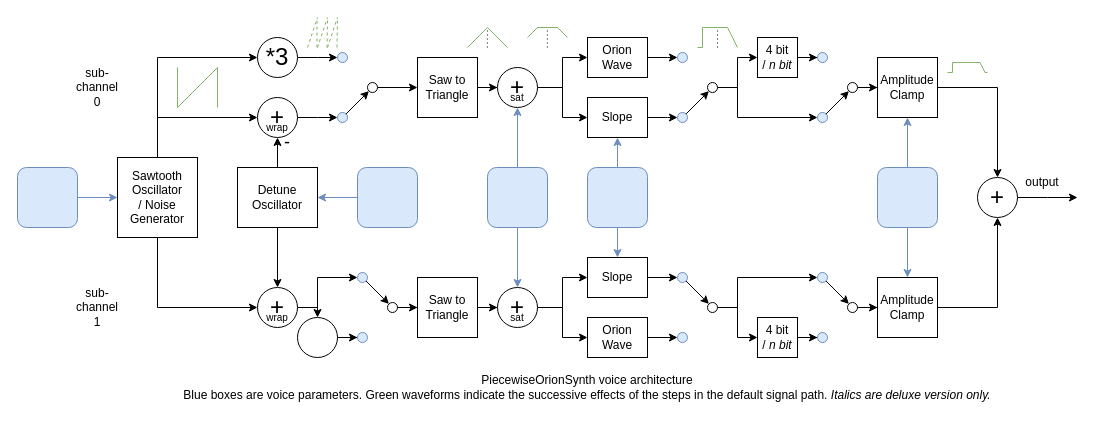
Some shapes in this 1103 by 425 pixel diagram are drawn without their labels. Each missing label, with the centre of its shape:
*2 n: point 317,337
amp: point 907,197
detune _exp: point 387,197
f_period: point 47,197
pwm_ offset: point 517,197
slope[0], slope[1]: point 617,197
